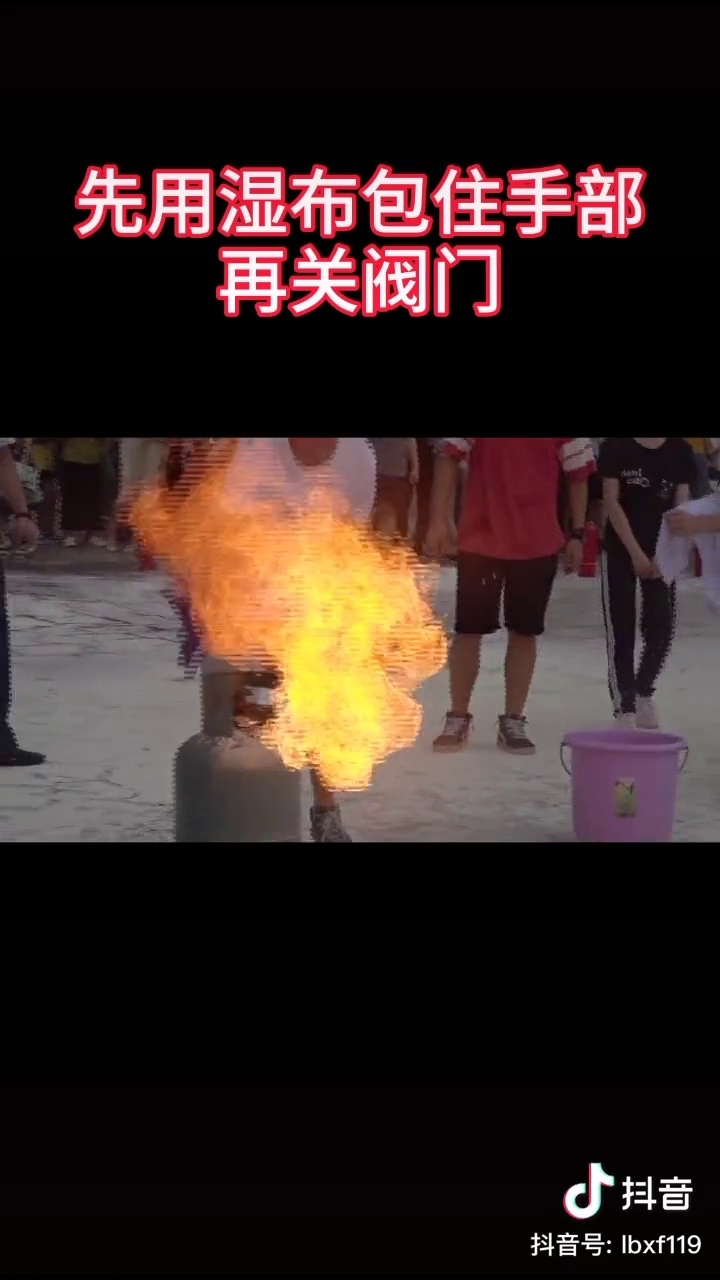fire: (147, 489, 427, 785)
